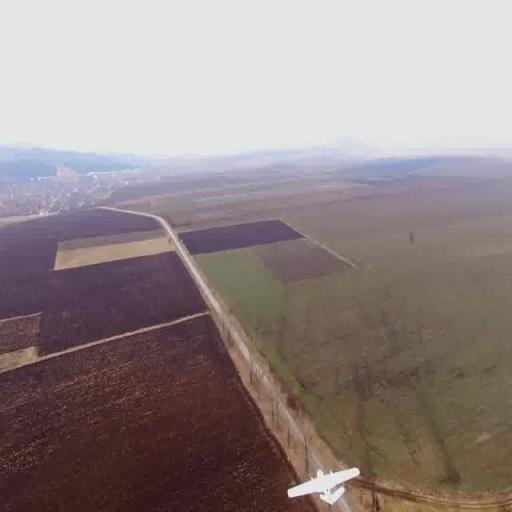uav: (268, 447, 380, 505)
